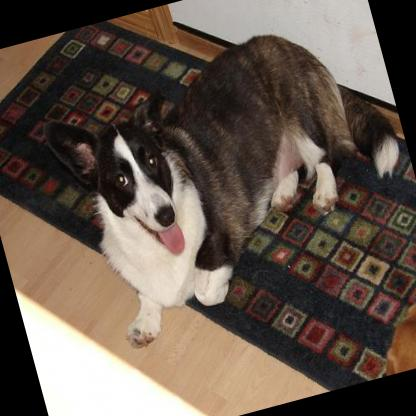Cardigan: (32, 6, 416, 358)
